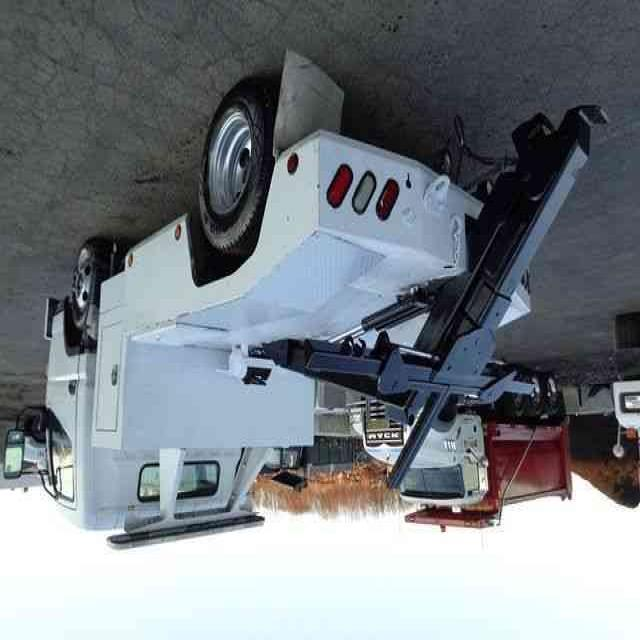truck: (4, 68, 608, 552), (349, 356, 573, 537)
